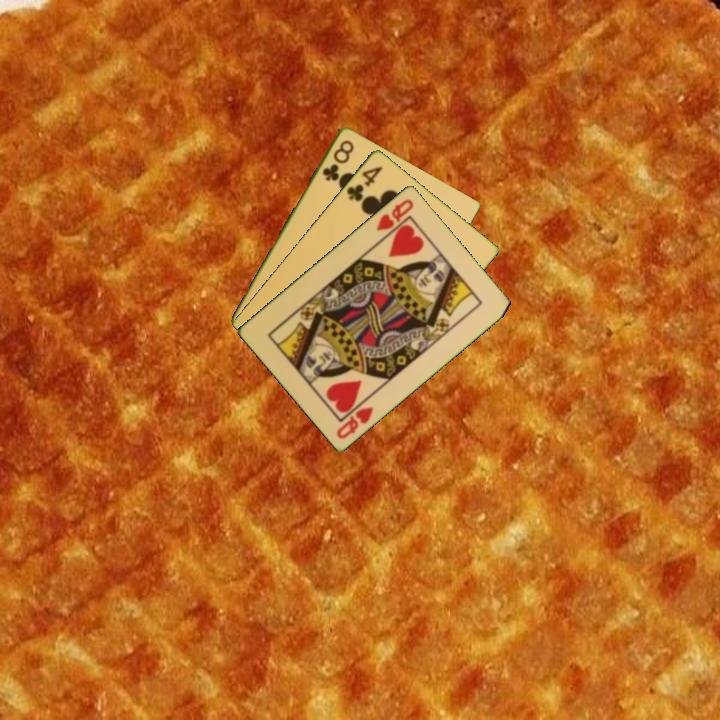4c: (343, 162, 386, 204)
8c: (319, 136, 357, 184)
Qh: (333, 403, 377, 442), (372, 195, 417, 233)
